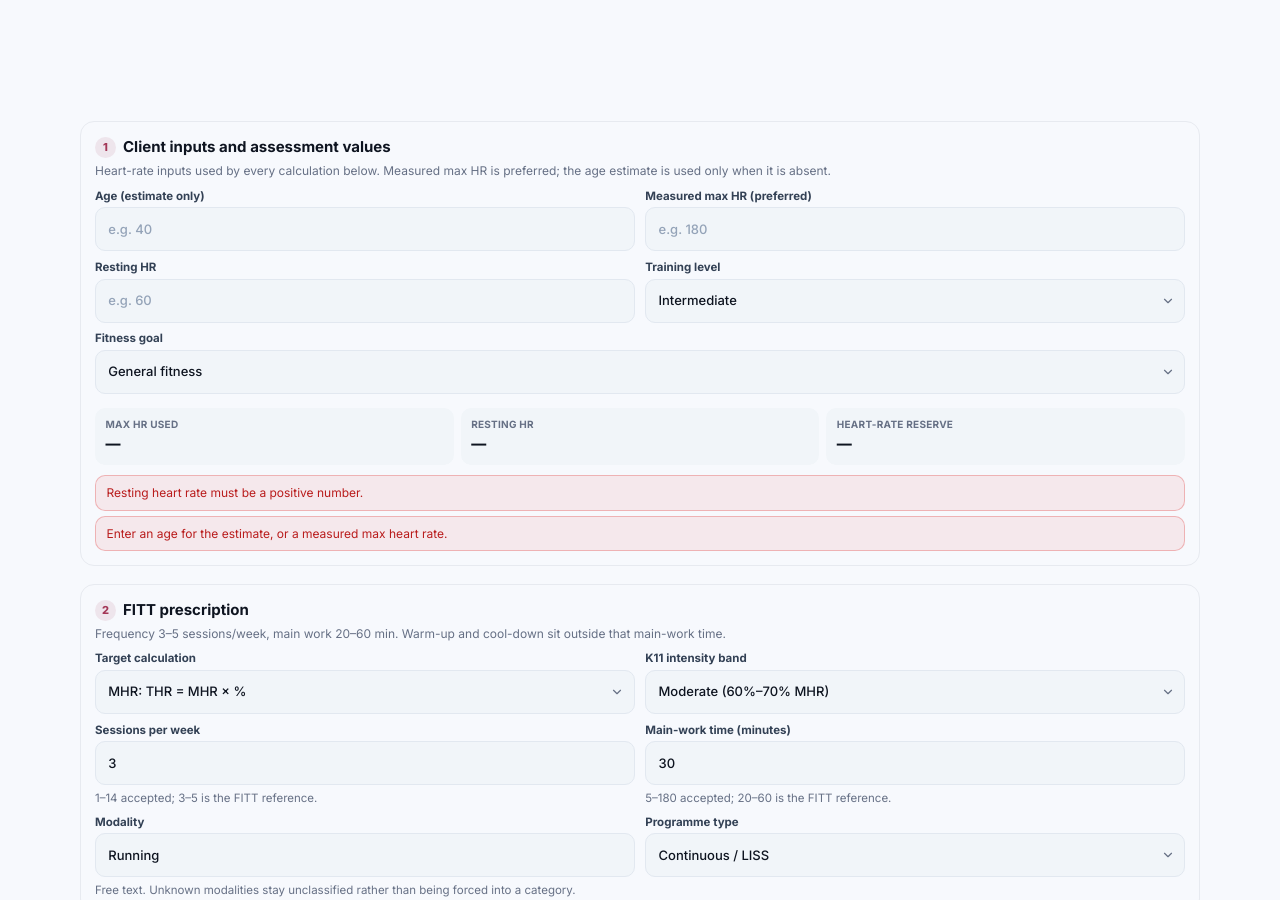
Scenario: <CardioCalculatorPage /> › rejects an out-of-range age instead of calculating from it
Type "0" into the field with placeholder "e.g. 40".
click(365, 229); type("0")  # box [95,207,635,251]
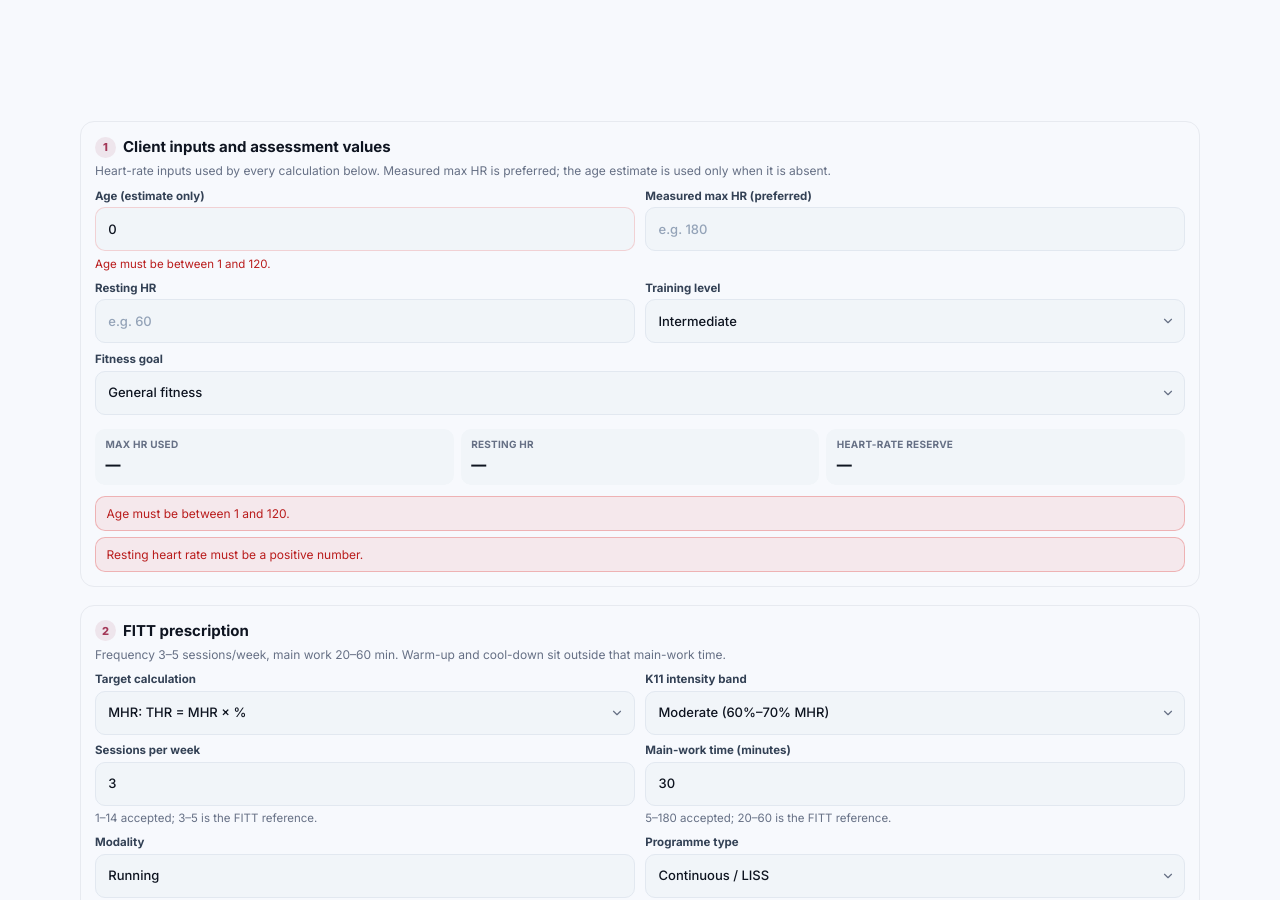
Check: the text "Age must be between 1 and 120." below "Age (estimate only)" is shown, box [95,257,271,271]
